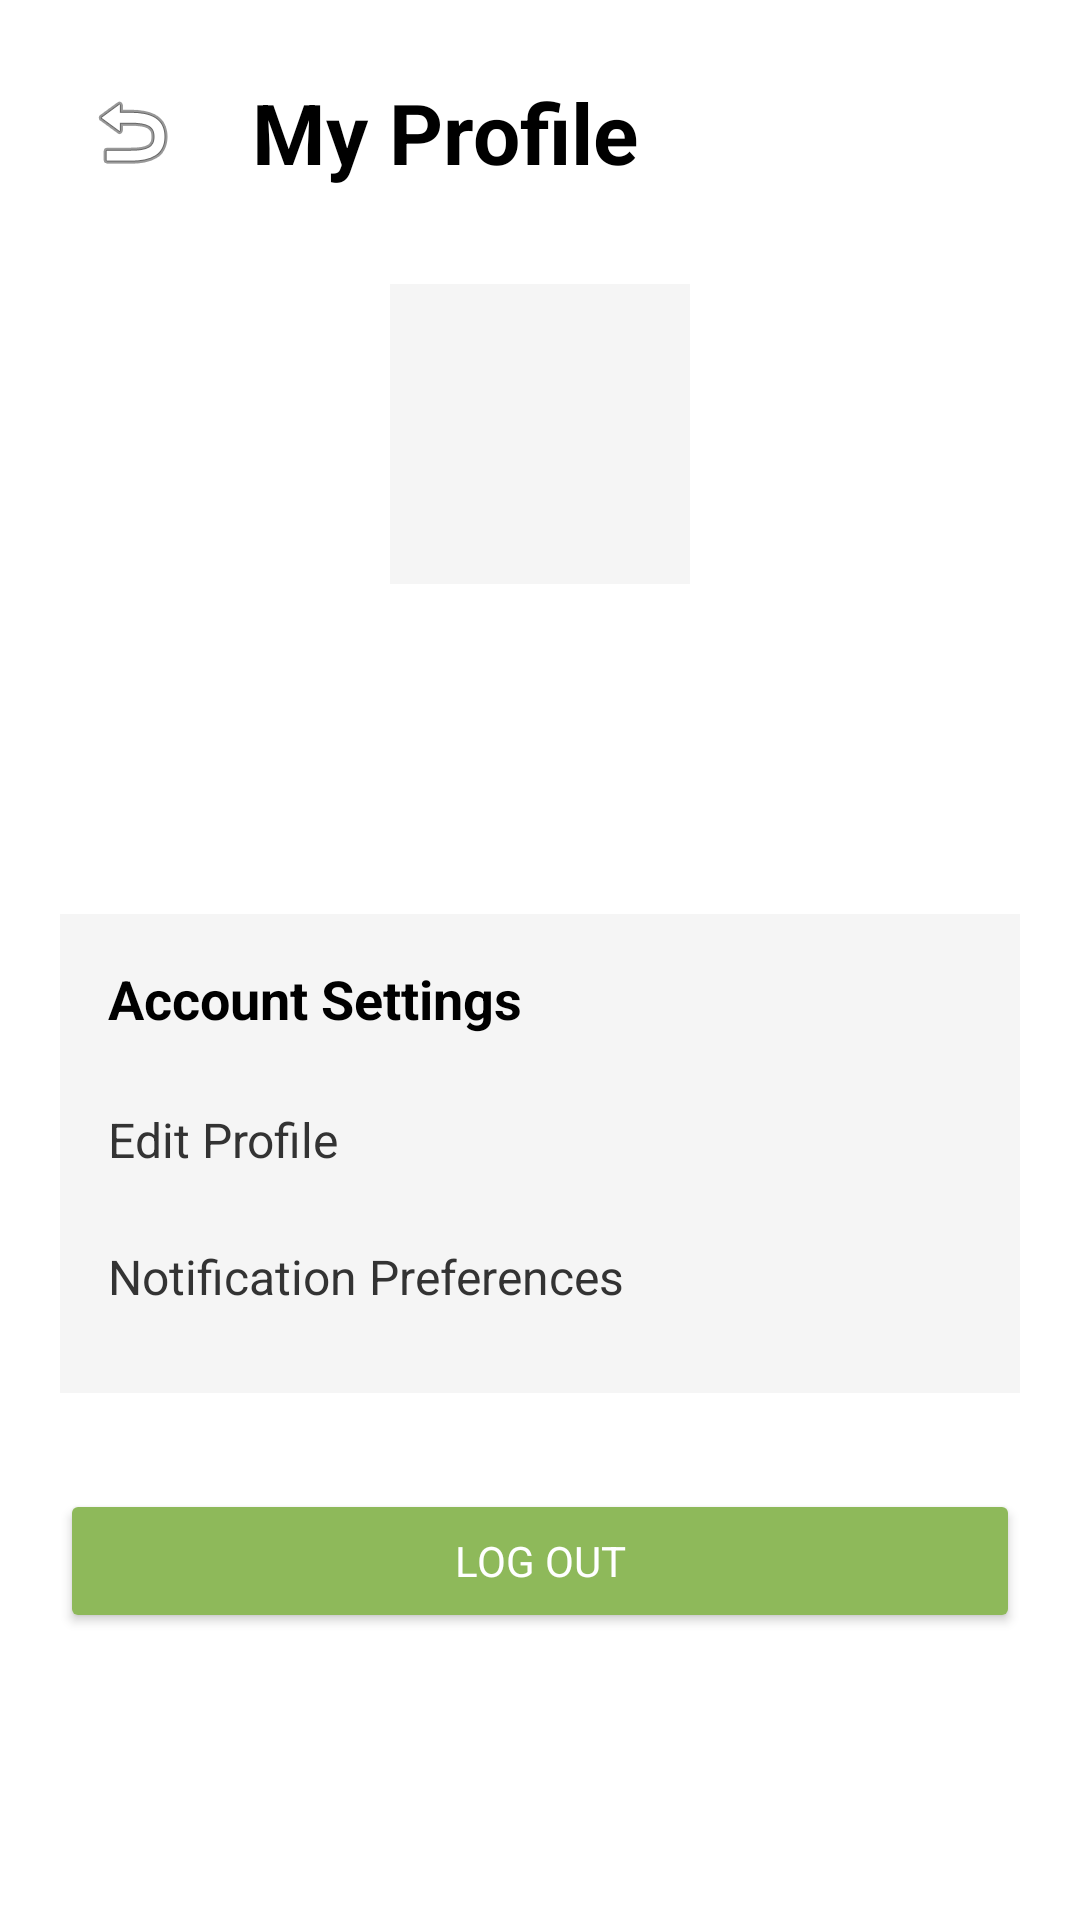

Where icons sit on this 1080×1920 app screen, as (x1, y1, x2, y2):
revert: (99, 101, 168, 164)
